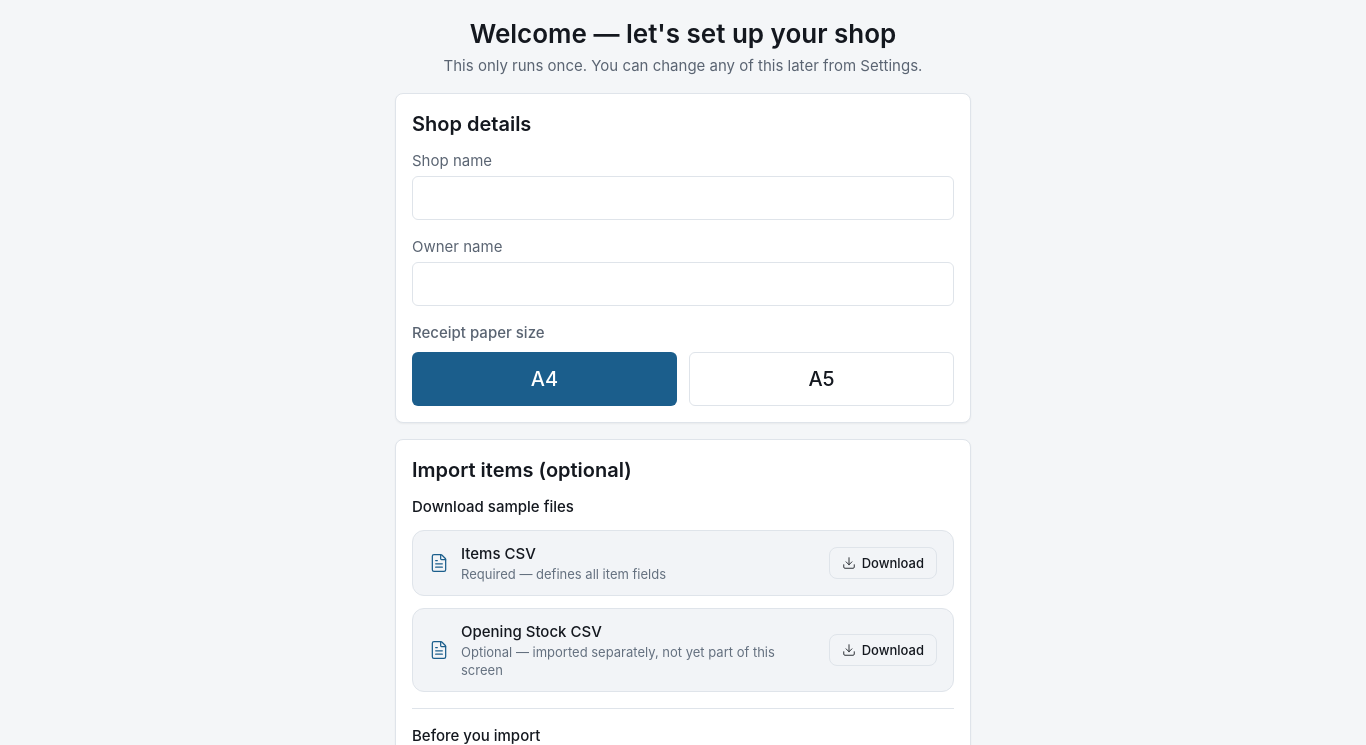
Scenario: SetupWizardPage › defaults to A4 and switches to A5 when selected
The image size is (1366, 745).
Type "Malakand AC & Fridge Repair" into the field labelled "Shop name" at (683, 198), box [412,176,954,220]
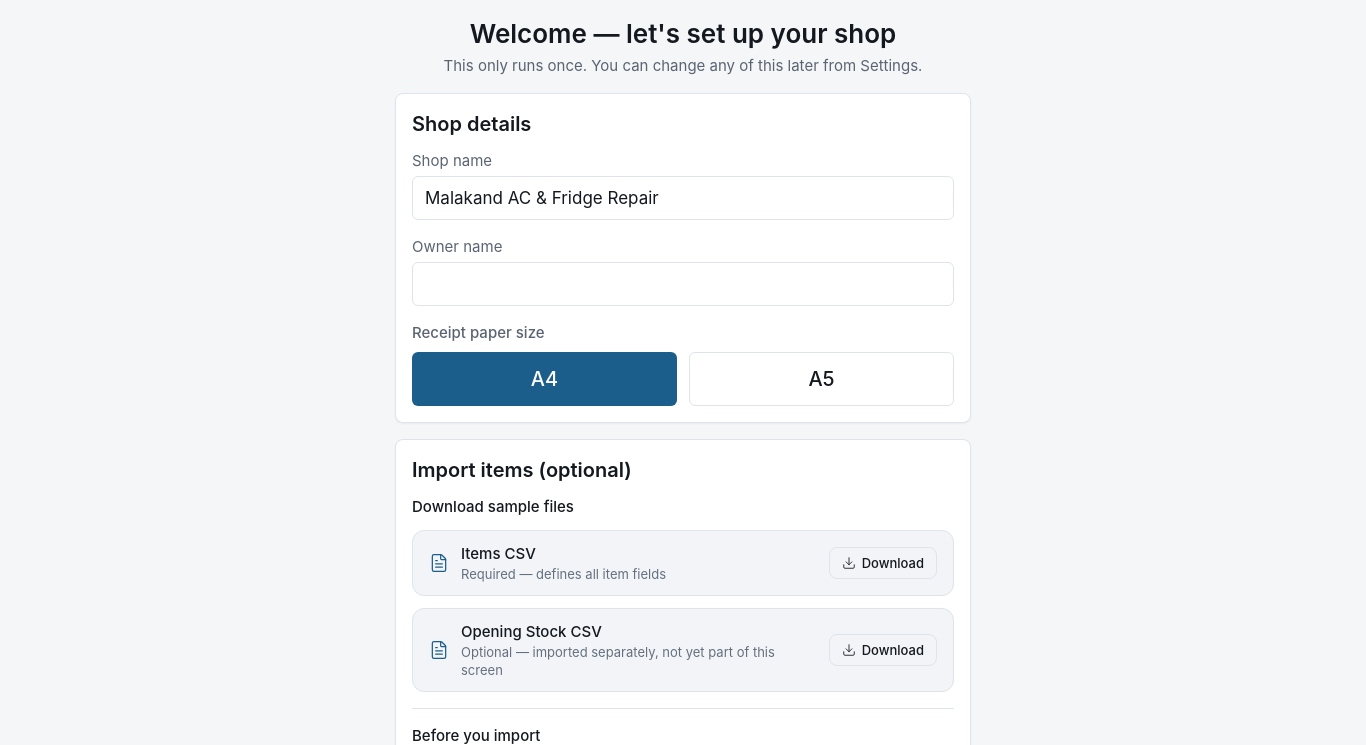
Type "Zahid Khan" into the field labelled "Owner name" at (683, 284), box [412,262,954,306]
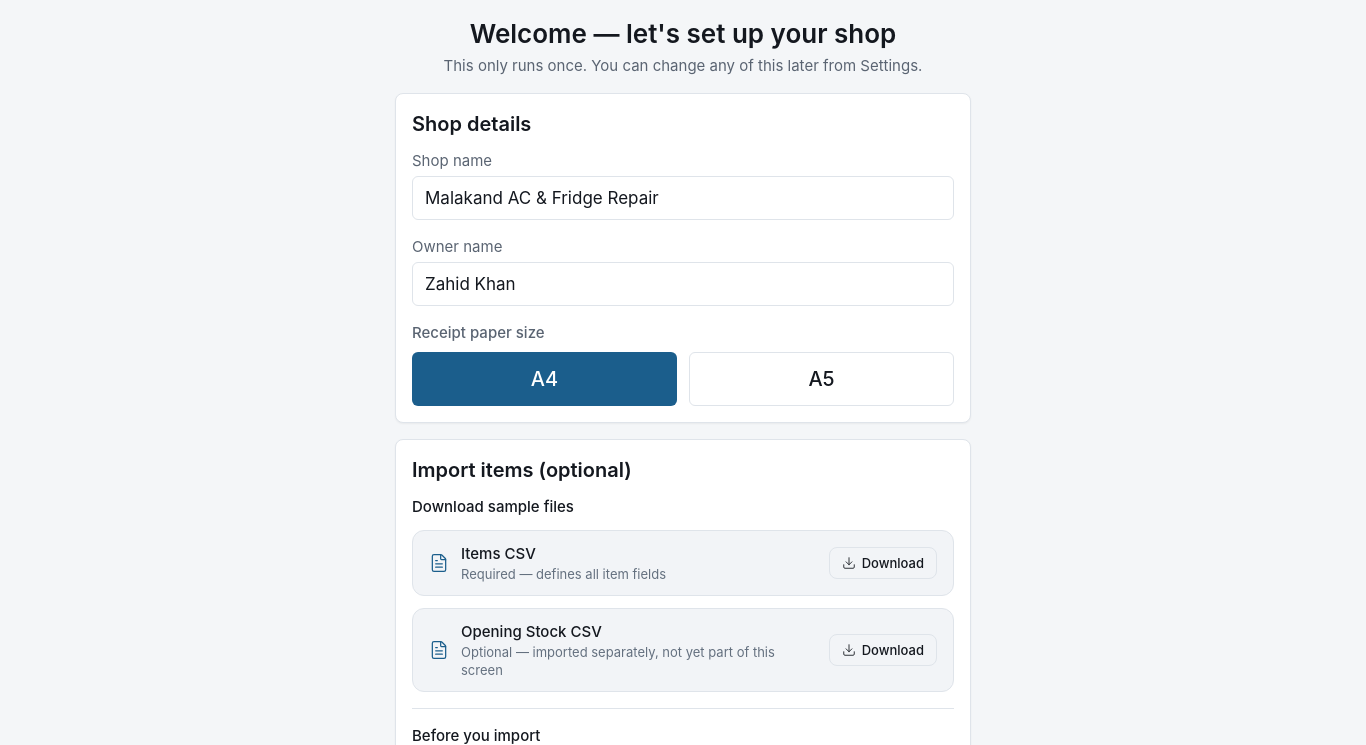
Click the button "A5" at (822, 379), box [689,352,954,406]
(page scrolled)
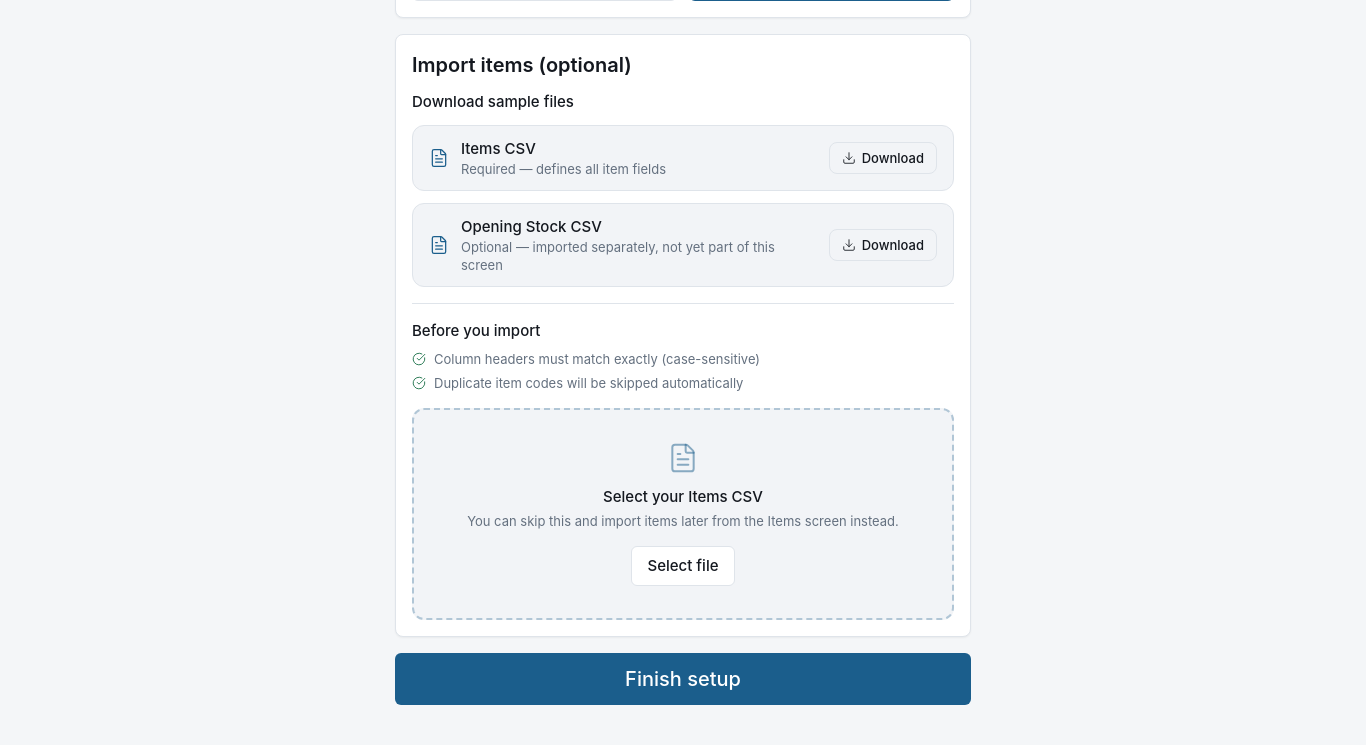
Click the button "Finish setup" at (683, 679), box [395,653,971,705]
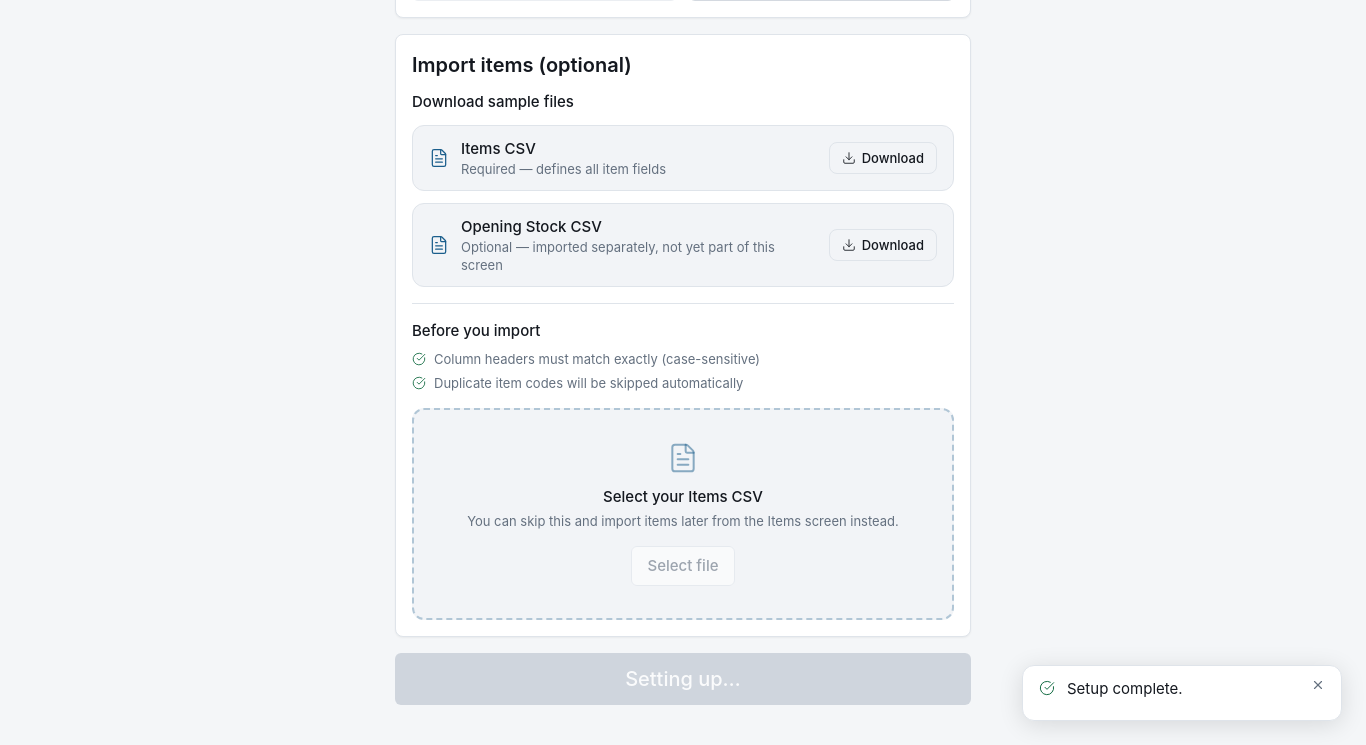
Now the text "Setup complete." is shown, box [1067,679,1183,698]
